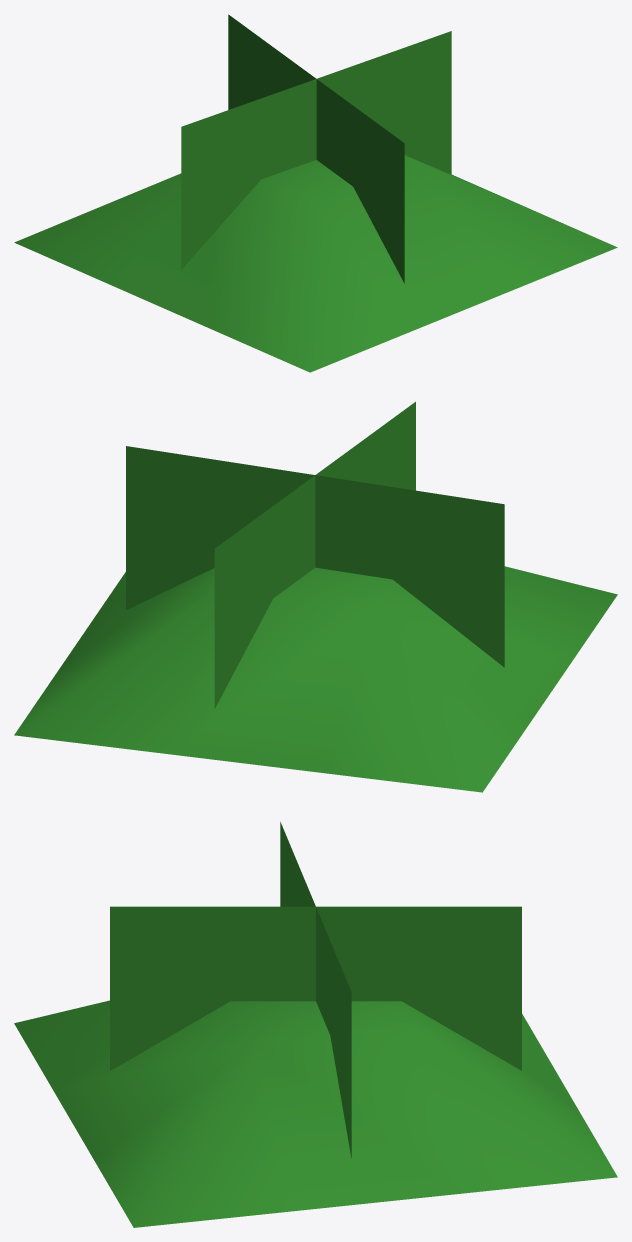
Rendered from Flower_krishna.FBX.
3 renders of one model, top to bottom at view 1: azimuth 30°, elevation 25°; view 2: azimuth 150°, elevation 25°; view 3: azimuth 270°, elevation 25°, orthographic. The views are drawn at different scales.
Visible parts, largest first — view 1: Flower_Krishna; view 2: Flower_Krishna; view 3: Flower_Krishna.
Part boxes in pixels (x1,y1,x2,y2): Flower_Krishna: (14,14,617,372); Flower_Krishna: (14,401,617,792); Flower_Krishna: (14,822,617,1227).
Size of the model in its own units: 140 by 49.61 by 140.
